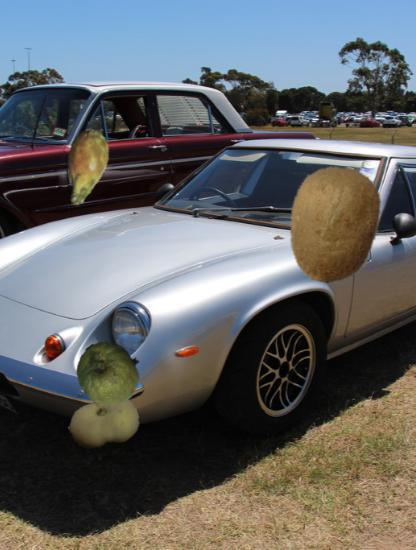Cactus: (46, 129, 125, 208)
Kiwi: (275, 165, 394, 284)
Limes: (76, 340, 142, 406)
Peach: (68, 386, 139, 457)
